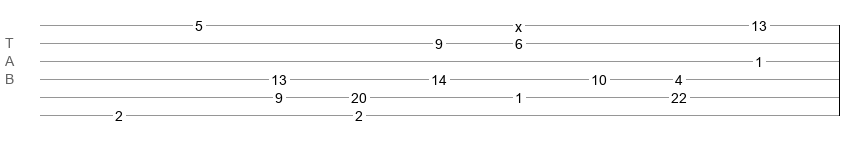1: (515, 90, 523, 100), (755, 54, 763, 64)
10: (591, 72, 607, 82)
13: (271, 72, 287, 82), (751, 18, 767, 28)
14: (431, 72, 447, 82)
2: (115, 108, 123, 118), (355, 108, 363, 118)
20: (351, 90, 367, 100)
22: (671, 90, 687, 100)
4: (675, 72, 683, 82)
5: (195, 18, 203, 28)
6: (515, 36, 523, 46)
9: (275, 90, 283, 100), (435, 36, 443, 46)
x: (515, 19, 522, 27)
